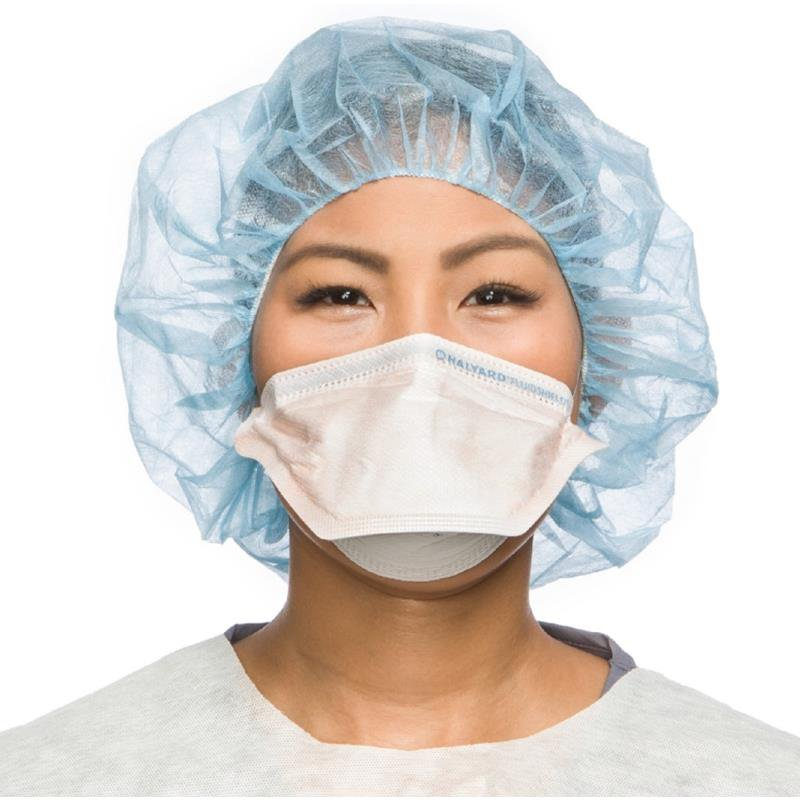mask: (119, 23, 708, 619)
